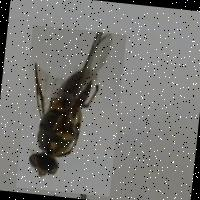Oriental-fruit-fly: (15, 24, 127, 196)
